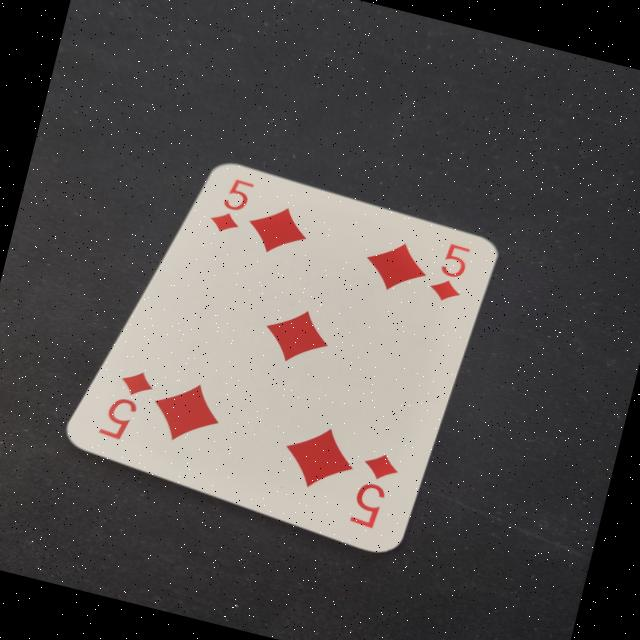5d: (336, 440, 409, 543), (87, 360, 163, 452), (198, 167, 265, 249), (418, 234, 481, 316)
